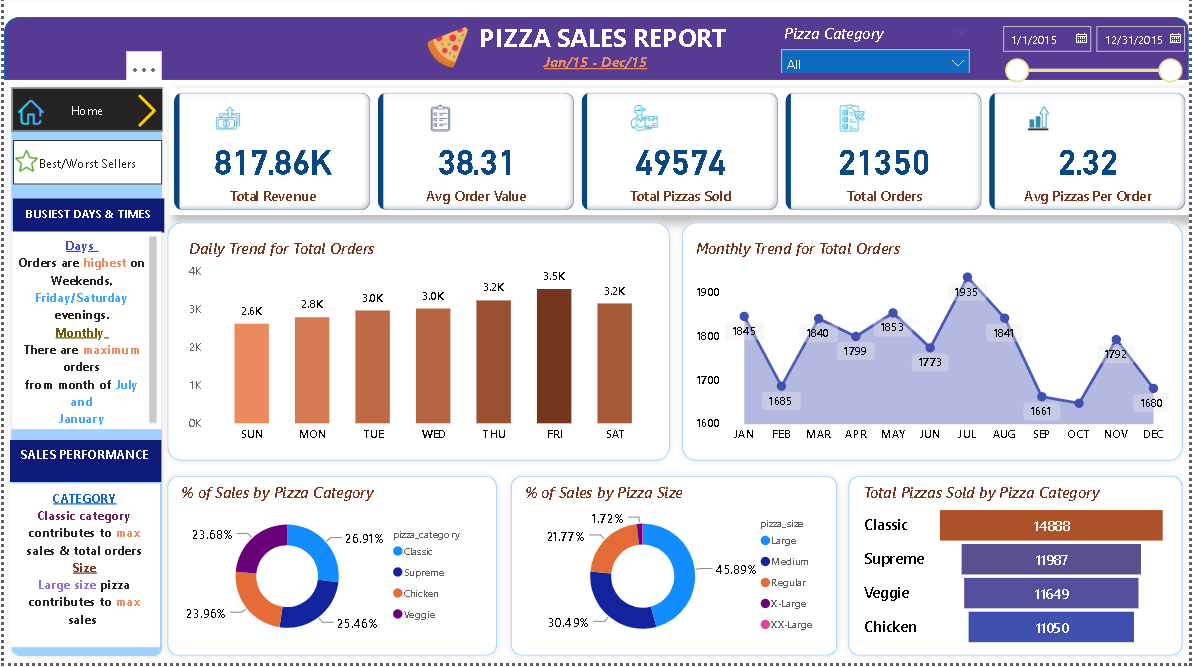

The page's visual inventory and layout, read from the dashboard file:
{"tool":"powerbi","page":{"name":"Home","canvas":[1280,720],"ordinal":0},"visuals":[{"type":"cardVisual","fields":{"Data":["pizza_sales.Total Revenue","pizza_sales.Avg Order Value","pizza_sales.Total Pizzas Sold","pizza_sales.Total Orders","pizza_sales.Avg Pizzas Per Order"]},"box":[177.5,98.8,1102.5,137.5],"z":0},{"type":"shape","box":[0,22,1280,68],"z":1000},{"type":"textbox","box":[501.4,21.4,288.6,52.9],"z":2000},{"type":"textbox","box":[552.9,55.7,172.9,41.4],"z":3000},{"type":"image","box":[447.1,27.1,64.3,55.7],"z":4000},{"type":"shape","box":[168.3,236.7,558.3,273.3],"z":5000},{"type":"columnChart","title":"Daily Trend for Total Orders","fields":{"Category":["pizza_sales.Order Day"],"Y":["pizza_sales.Total Orders"]},"box":[195,260,516.2,231.2],"z":6000},{"type":"shape","box":[723.3,236.7,556.7,273.3],"z":7000},{"type":"stackedAreaChart","title":"Monthly Trend for Total Orders","fields":{"Y":["pizza_sales.Total Orders"],"Category":["pizza_sales.Order Month"]},"box":[741.2,260,520,231.2],"z":8000},{"type":"shape","box":[168.3,510,371.7,210],"z":9000},{"type":"shape","box":[903.3,510,376.7,210],"z":10000},{"type":"shape","box":[540,510,368.3,210],"z":11000},{"type":"donutChart","title":"% of Sales by Pizza Category","fields":{"Category":["pizza_sales.pizza_category"],"Y":["pizza_sales.Total Revenue"]},"box":[186.2,525,336.2,181.2],"z":12000},{"type":"donutChart","title":"% of Sales by Pizza Size","fields":{"Category":["pizza_sales.pizza_size"],"Y":["pizza_sales.Total Revenue"]},"box":[556.2,525,336.2,181.2],"z":13000},{"type":"funnel","title":"Total Pizzas Sold by Pizza Category","fields":{"Category":["pizza_sales.pizza_category"],"Y":["pizza_sales.Total Pizzas Sold"]},"box":[923.8,525,337.5,181.2],"z":14000},{"type":"shape","box":[0,90,178.6,630],"z":15000},{"type":"textbox","box":[10,218.3,163.3,36.7],"z":16000},{"type":"textbox","box":[8.3,255,161.7,213.3],"z":17000},{"type":"textbox","box":[6.7,480,163.3,45],"z":18000},{"type":"textbox","box":[6.7,526.7,161.7,176.7],"z":19000},{"type":"slicer","title":"Pizza Category","fields":{"Values":["pizza_sales.order_date"]},"box":[828.3,25,223.3,58.3],"z":20000},{"type":"slicer","title":"Pizza Category","fields":{"Values":["pizza_sales.order_date"]},"box":[1065,23.3,215,73.3],"z":21000},{"type":"pageNavigator","box":[8,98,163,48],"z":22000},{"type":"pageNavigator","box":[10,155,161,48],"z":23000},{"type":"image","box":[131,100,47,46],"z":24000},{"type":"image","box":[10,103.3,38.3,43.3],"z":25000},{"type":"image","box":[0,160,48.3,35],"z":26000}]}

Visuals, with their boxes in screenshot pixels (x1, y1, x2, y2), scaled from the page's 1280x720 canvas onto the 1192x667 screenshot:
cardVisual - pizza_sales.Total Revenue x pizza_sales.Avg Order Value: (left=165, top=92, right=1191, bottom=219)
shape: (left=0, top=20, right=1191, bottom=83)
textbox: (left=467, top=20, right=736, bottom=69)
textbox: (left=515, top=52, right=676, bottom=90)
image: (left=416, top=25, right=476, bottom=77)
shape: (left=157, top=219, right=677, bottom=472)
"Daily Trend for Total Orders" columnChart: (left=182, top=241, right=662, bottom=455)
shape: (left=674, top=219, right=1191, bottom=472)
"Monthly Trend for Total Orders" stackedAreaChart: (left=690, top=241, right=1174, bottom=455)
shape: (left=157, top=472, right=503, bottom=666)
shape: (left=841, top=472, right=1191, bottom=666)
shape: (left=503, top=472, right=846, bottom=666)
"% of Sales by Pizza Category" donutChart: (left=173, top=486, right=486, bottom=654)
"% of Sales by Pizza Size" donutChart: (left=518, top=486, right=831, bottom=654)
"Total Pizzas Sold by Pizza Category" funnel: (left=860, top=486, right=1175, bottom=654)
shape: (left=0, top=83, right=166, bottom=666)
textbox: (left=9, top=202, right=161, bottom=236)
textbox: (left=8, top=236, right=158, bottom=434)
textbox: (left=6, top=445, right=158, bottom=486)
textbox: (left=6, top=488, right=157, bottom=652)
"Pizza Category" slicer: (left=771, top=23, right=979, bottom=77)
"Pizza Category" slicer: (left=992, top=22, right=1191, bottom=89)
pageNavigator: (left=7, top=91, right=159, bottom=135)
pageNavigator: (left=9, top=144, right=159, bottom=188)
image: (left=122, top=93, right=166, bottom=135)
image: (left=9, top=96, right=45, bottom=136)
image: (left=0, top=148, right=45, bottom=181)
